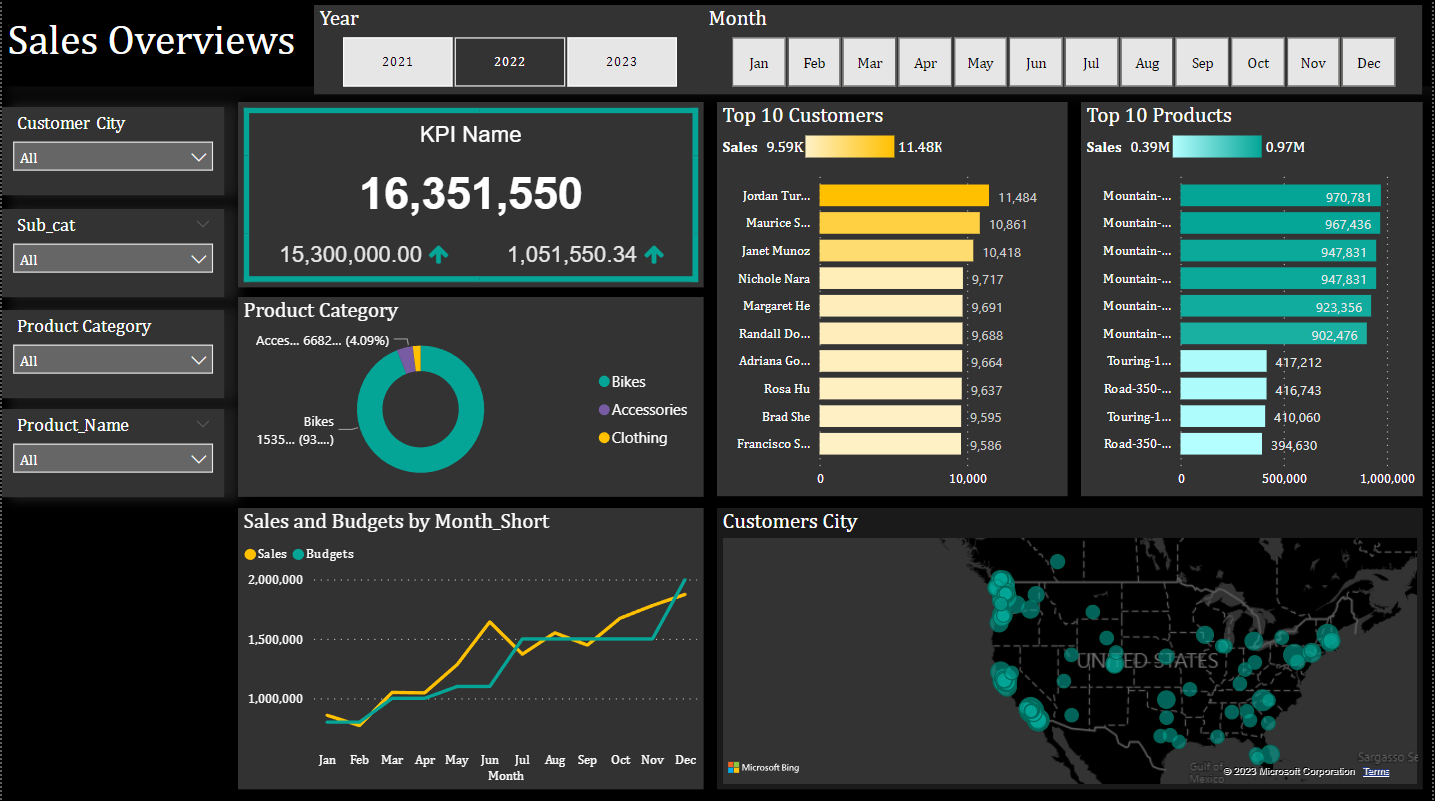

What the dashboard file says about the page in this screenshot:
{"tool":"powerbi","page":{"name":"Sales Overview","canvas":[1280,720],"ordinal":0},"visuals":[{"type":"textbox","box":[0,0,1280,80],"z":0},{"type":"slicer","fields":{"Values":["DIM_Customers.Customer City"]},"box":[0,98.9,198.9,78.9],"z":1000},{"type":"slicer","fields":{"Values":["DIM_Product.Sub_cat"]},"box":[0,190,198.9,78.9],"z":2000},{"type":"slicer","fields":{"Values":["DIM_Product.Product Category"]},"box":[0,280,198.9,78.9],"z":3000},{"type":"slicer","fields":{"Values":["DIM_Product.Product_Name"]},"box":[0,368.9,198.9,78.9],"z":4000},{"type":"slicer","title":"Month","fields":{"Values":["DIM_Calendar_v2.Month_Short"]},"box":[628,7,644,80],"z":5000},{"type":"slicer","title":"Year","fields":{"Values":["DIM_Calendar_v2.Year"]},"box":[279,7,349,80],"z":6000},{"type":"BBED0A4D4D8D44CE93CF2DAFADEE466C","fields":{"actual":["Measurement.Sales"],"target1":["Measurement.Budgets"],"target2":["Measurement.DifF"]},"box":[211.1,94.4,416.7,165.6],"z":7000},{"type":"donutChart","title":"Product Category","fields":{"Category":["DIM_Product.Product Category"],"Y":["Fact_internet_Sales.Sales_Total"]},"box":[211.1,268.9,416.7,178.9],"z":8000},{"type":"lineChart","fields":{"Y":["Measurement.Sales","Measurement.Budgets"],"Category":["DIM_Calendar_v2.Month_Short"]},"box":[211.1,457.8,416.7,252.2],"z":9000},{"type":"barChart","title":"Top 10 Customers","fields":{"Y":["Measurement.Sales"],"Category":["DIM_Customers.Full name"]},"box":[640,94.4,314.4,353.3],"z":10000},{"type":"barChart","title":"Top 10 Products","fields":{"Y":["Measurement.Sales"],"Category":["DIM_Product.Product_Name"]},"box":[966.7,94.4,305.6,353.3],"z":11000},{"type":"map","title":"Customers City","fields":{"Category":["DIM_Customers.Customer City"],"Size":["Fact_internet_Sales.Sales_Total"]},"box":[640,457.8,632.2,252.2],"z":12000}]}

Visuals, with their boxes in screenshot pixels (x1, y1, x2, y2), scaled from the page's 1280x720 canvas onto the 1435x801 screenshot:
textbox: [0,0,1434,89]
slicer - DIM_Customers.Customer City: [0,110,223,198]
slicer - DIM_Product.Sub_cat: [0,211,223,299]
slicer - DIM_Product.Product Category: [0,312,223,399]
slicer - DIM_Product.Product_Name: [0,410,223,498]
"Month" slicer: [704,8,1426,97]
"Year" slicer: [313,8,704,97]
BBED0A4D4D8D44CE93CF2DAFADEE466C - Measurement.Sales x Measurement.Budgets: [237,105,704,289]
"Product Category" donutChart: [237,299,704,498]
lineChart - Measurement.Sales x Measurement.Budgets: [237,509,704,790]
"Top 10 Customers" barChart: [718,105,1070,498]
"Top 10 Products" barChart: [1084,105,1426,498]
"Customers City" map: [718,509,1426,790]
